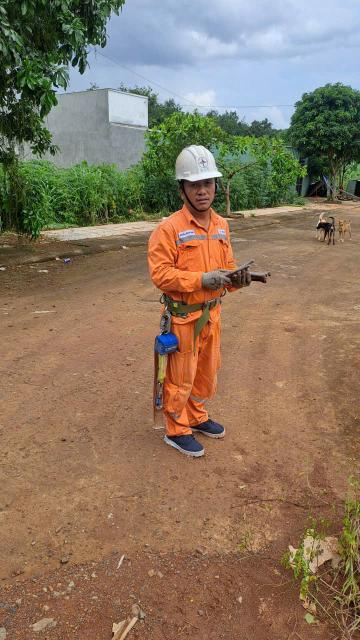gloves: (220, 261, 257, 290), (196, 267, 232, 291)
harness: (152, 281, 236, 327)
helmet: (169, 138, 227, 186)
shoes: (165, 425, 208, 462), (183, 412, 229, 439)
